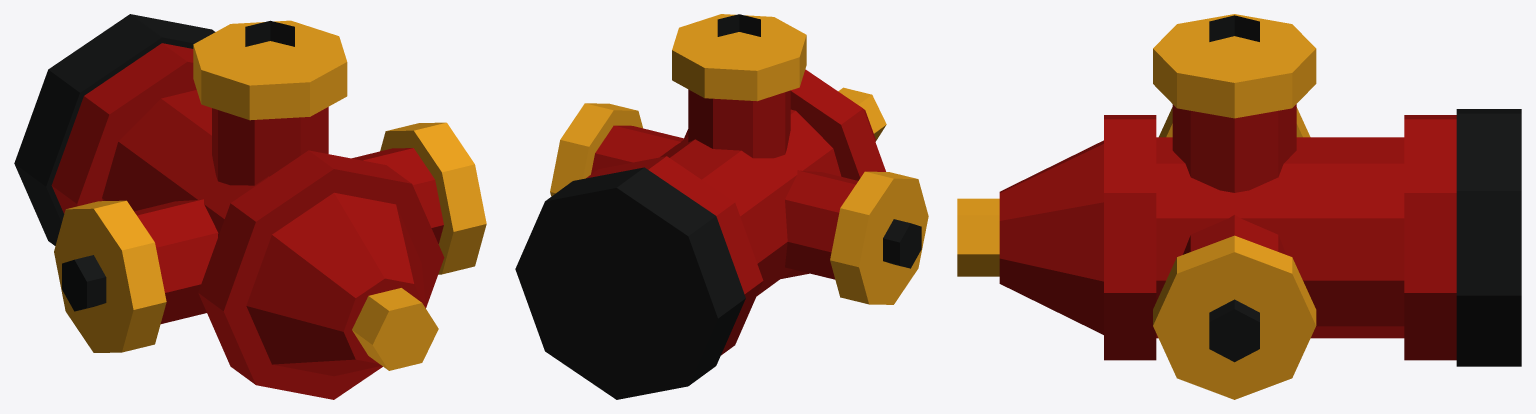
File: fire_hydrant.obj
3 views of the same model, side by side, from view 1: azimuth 30°, elevation 25°; view 2: azimuth 150°, elevation 25°; view 3: azimuth 270°, elevation 25° (orthographic). The views are drawn at different scales.
Visible parts, largest first — view 1: bonnet, top_flange, nozzle_cap_3, nozzle_cap_2, foot, body, lower_flange, nozzle_cap_1, nozzle_neck_3, nozzle_neck_2, top_nut, nozzle_neck_1 (+2 smaller); view 2: foot, body, nozzle_cap_3, nozzle_cap_2, nozzle_neck_3, nozzle_neck_2, top_flange, lower_flange, nozzle_cap_1, nozzle_neck_1, nozzle_nut_2, top_nut (+1 smaller); view 3: body, nozzle_cap_1, foot, bonnet, lower_flange, top_flange, nozzle_cap_3, nozzle_neck_3, top_nut, nozzle_nut_1, nozzle_neck_1, nozzle_nut_3 (+1 smaller).
Boxes of the visible parts, bbox=[...] form: bonnet: bbox=[246, 192, 425, 376]; top_flange: bbox=[198, 150, 444, 399]; nozzle_cap_3: bbox=[193, 20, 347, 120]; nozzle_cap_2: bbox=[54, 200, 166, 352]; foot: bbox=[14, 14, 215, 245]; body: bbox=[102, 90, 268, 236]; lower_flange: bbox=[51, 43, 196, 213]; nozzle_cap_1: bbox=[380, 122, 486, 274]; nozzle_neck_3: bbox=[212, 107, 328, 185]; nozzle_neck_2: bbox=[134, 199, 218, 323]; top_nut: bbox=[352, 288, 438, 370]; nozzle_neck_1: bbox=[351, 148, 443, 243]; foot: bbox=[515, 167, 745, 399]; body: bbox=[660, 109, 841, 295]; nozzle_cap_3: bbox=[672, 14, 806, 101]; nozzle_cap_2: bbox=[830, 171, 928, 304]; nozzle_neck_3: bbox=[688, 89, 790, 158]; nozzle_neck_2: bbox=[785, 170, 858, 279]; top_flange: bbox=[684, 69, 885, 278]; lower_flange: bbox=[586, 156, 763, 355]; nozzle_cap_1: bbox=[550, 103, 642, 196]; nozzle_neck_1: bbox=[591, 125, 684, 174]; nozzle_nut_2: bbox=[883, 219, 921, 268]; top_nut: bbox=[838, 87, 886, 141]; body: bbox=[1156, 137, 1404, 338]; nozzle_cap_1: bbox=[1153, 235, 1316, 399]; foot: bbox=[1456, 109, 1521, 366]; bonnet: bbox=[999, 140, 1103, 334]; lower_flange: bbox=[1404, 115, 1456, 360]; top_flange: bbox=[1104, 115, 1156, 360]; nozzle_cap_3: bbox=[1153, 14, 1316, 118]; nozzle_neck_3: bbox=[1172, 104, 1296, 192]; top_nut: bbox=[957, 198, 999, 276]; nozzle_nut_1: bbox=[1209, 299, 1259, 362]; nozzle_neck_1: bbox=[1183, 215, 1286, 254]; nozzle_nut_3: bbox=[1209, 15, 1259, 41].
Size of the model in its own units: 1.42 by 1.13 by 1.73.
